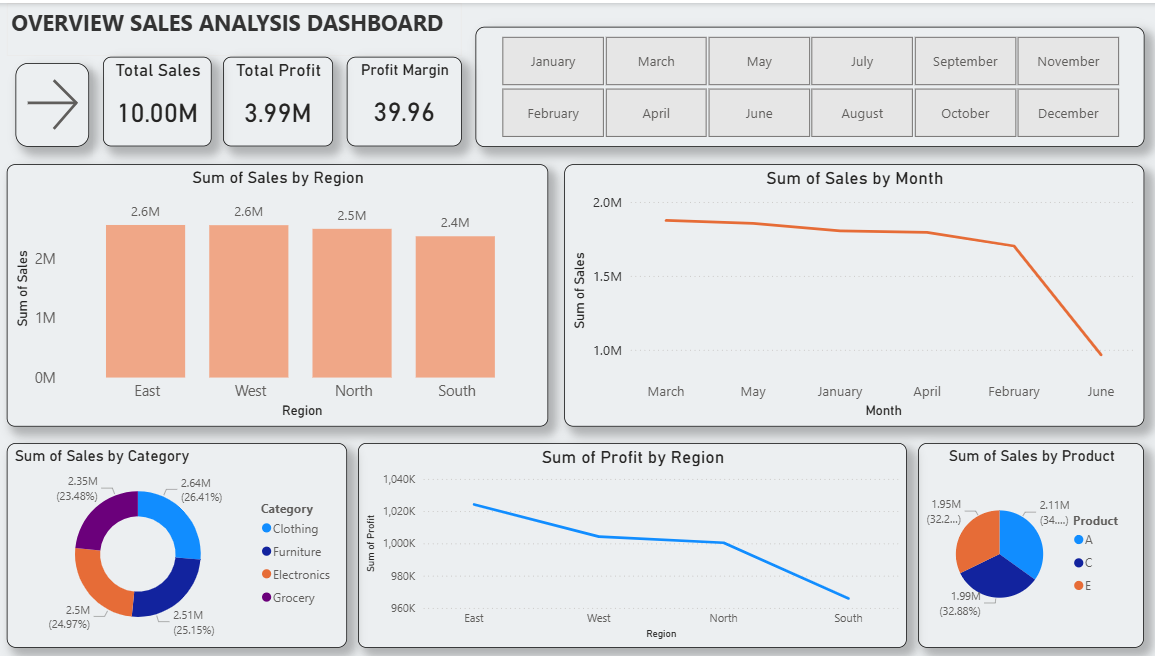

Layout of this report page (visuals, bound fields, positions):
{"tool":"powerbi","page":{"name":"Page 1","canvas":[1280,720],"ordinal":0},"visuals":[{"type":"textbox","box":[9.6,0,499.5,59],"z":0},{"type":"card","title":"Total Sales","fields":{"Values":["Sum(Cleaned Data.Sales)"]},"box":[115.3,59,119.4,98.8],"z":1000},{"type":"card","title":"Total Profit","fields":{"Values":["Sum(Cleaned Data.Profit)"]},"box":[247,59,120.8,98.8],"z":2000},{"type":"columnChart","fields":{"Category":["Cleaned Data.Region"],"Y":["Sum(Cleaned Data.Sales)"]},"box":[9.6,177,594.2,288.2],"z":3000},{"type":"lineChart","title":"Sum of Sales by Month ","fields":{"Category":["Cleaned Data.Month Name"],"Y":["Sum(Cleaned Data.Sales)"]},"box":[621.6,177,636.7,288.2],"z":4000},{"type":"donutChart","fields":{"Category":["Cleaned Data.Category","Cleaned Data.Region"],"Y":["Sum(Cleaned Data.Sales)"]},"box":[9.6,483,373.2,225],"z":5000},{"type":"lineChart","fields":{"Category":["Cleaned Data.Region"],"Y":["Sum(Cleaned Data.Profit)"]},"box":[395.2,483,602.4,225],"z":6000},{"type":"slicer","fields":{"Values":["Cleaned Data.OrderDate.Variation.Date Hierarchy.Month"]},"box":[524.2,26.1,734.1,131.7],"z":7000},{"type":"pieChart","fields":{"Category":["Cleaned Data.Product"],"Y":["Sum(Cleaned Data.Sales)"]},"box":[1010,483,248.4,225],"z":8000},{"type":"card","title":"Profit Margin","fields":{"Values":["Cleaned Data.Profit Margin"]},"box":[382.8,59,126.2,98.8],"z":9000},{"type":"actionButton","box":[19.2,65.9,81,91.9],"z":10000}]}

Visuals, with their boxes in screenshot pixels (x1, y1, x2, y2), scaled from the page's 1280x720 canvas onto the 1155x656 screenshot:
textbox: bbox=(9, 0, 459, 54)
"Total Sales" card: bbox=(104, 54, 212, 144)
"Total Profit" card: bbox=(223, 54, 332, 144)
columnChart - Cleaned Data.Region x Sum(Cleaned Data.Sales): bbox=(9, 161, 545, 424)
"Sum of Sales by Month " lineChart: bbox=(561, 161, 1135, 424)
donutChart - Cleaned Data.Category x Cleaned Data.Region: bbox=(9, 440, 345, 645)
lineChart - Cleaned Data.Region x Sum(Cleaned Data.Profit): bbox=(357, 440, 900, 645)
slicer - Cleaned Data.OrderDate.Variation.Date Hierarchy.Month: bbox=(473, 24, 1135, 144)
pieChart - Cleaned Data.Product x Sum(Cleaned Data.Sales): bbox=(911, 440, 1136, 645)
"Profit Margin" card: bbox=(345, 54, 459, 144)
actionButton: bbox=(17, 60, 90, 144)
